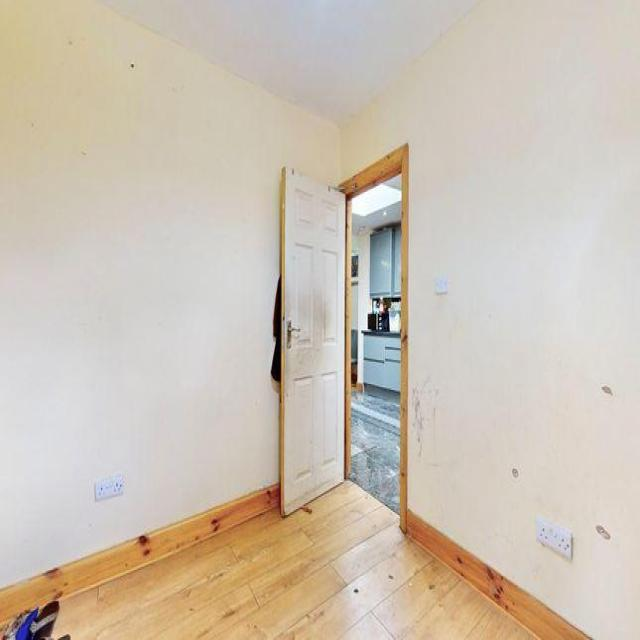Wall: (0, 2, 340, 584), (420, 3, 640, 637), (54, 482, 531, 639), (341, 45, 454, 533), (104, 1, 476, 123), (45, 473, 189, 567), (504, 512, 599, 635), (350, 384, 399, 513)
